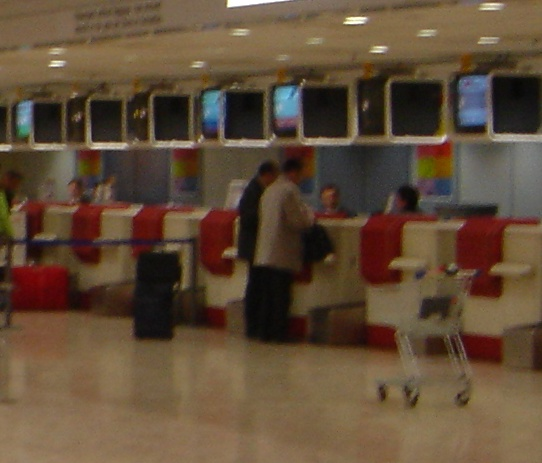person: (255, 156, 313, 345)
